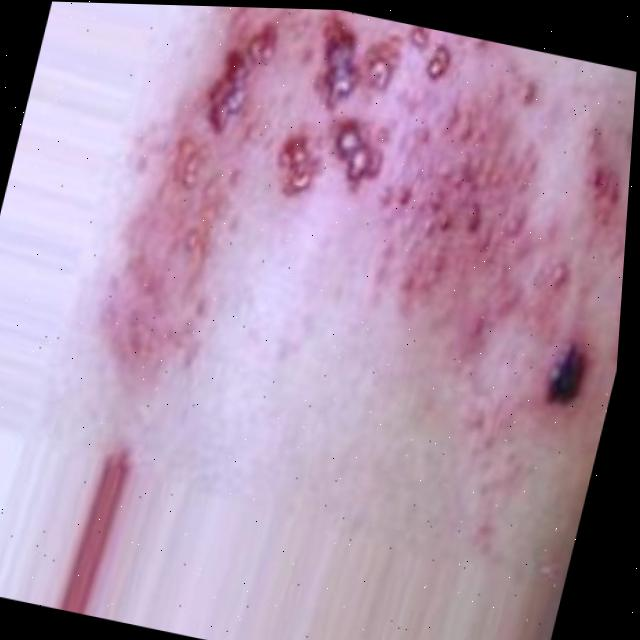Shingles: (78, 3, 640, 483)
